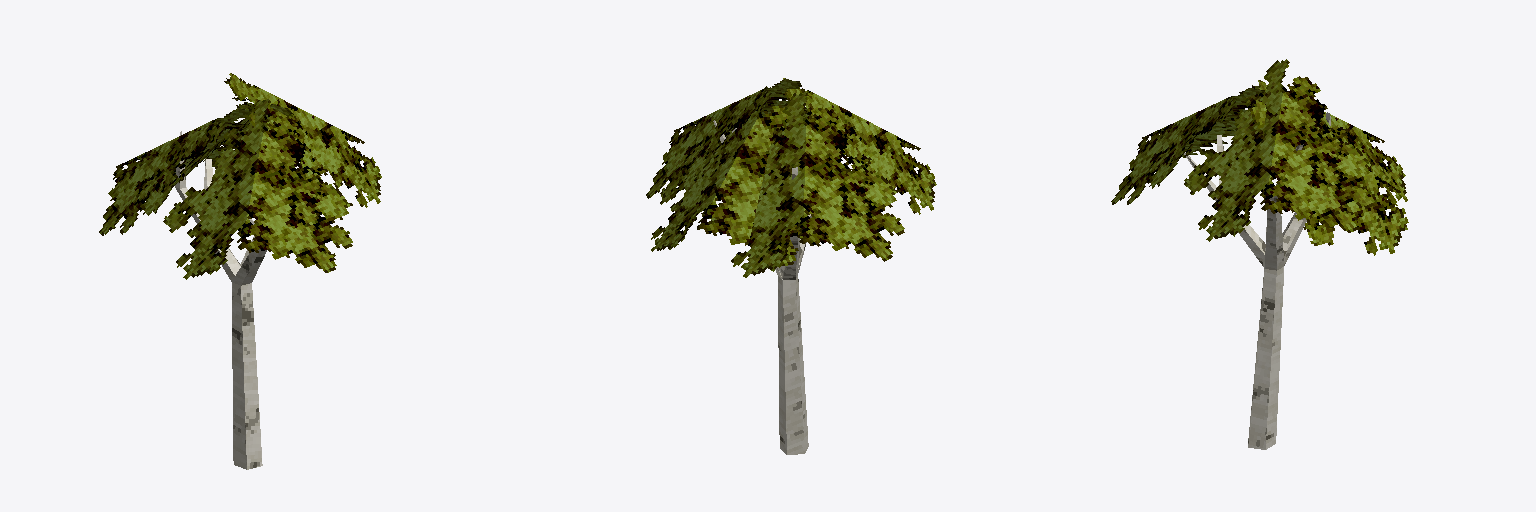
The picture shows the model from 3 angles: view 1: azimuth 30°, elevation 25°; view 2: azimuth 150°, elevation 25°; view 3: azimuth 270°, elevation 25°; orthographic projection.
Visible parts, largest first — view 1: birch_1; view 2: birch_1; view 3: birch_1.
Part boxes in pixels (bbox=[...]): birch_1: bbox=[99, 73, 381, 469]; birch_1: bbox=[646, 78, 936, 454]; birch_1: bbox=[1111, 59, 1408, 449].
Bounding box in the file's own units: 3.72 × 4.48 × 3.83.
2 materials, 2 textured.